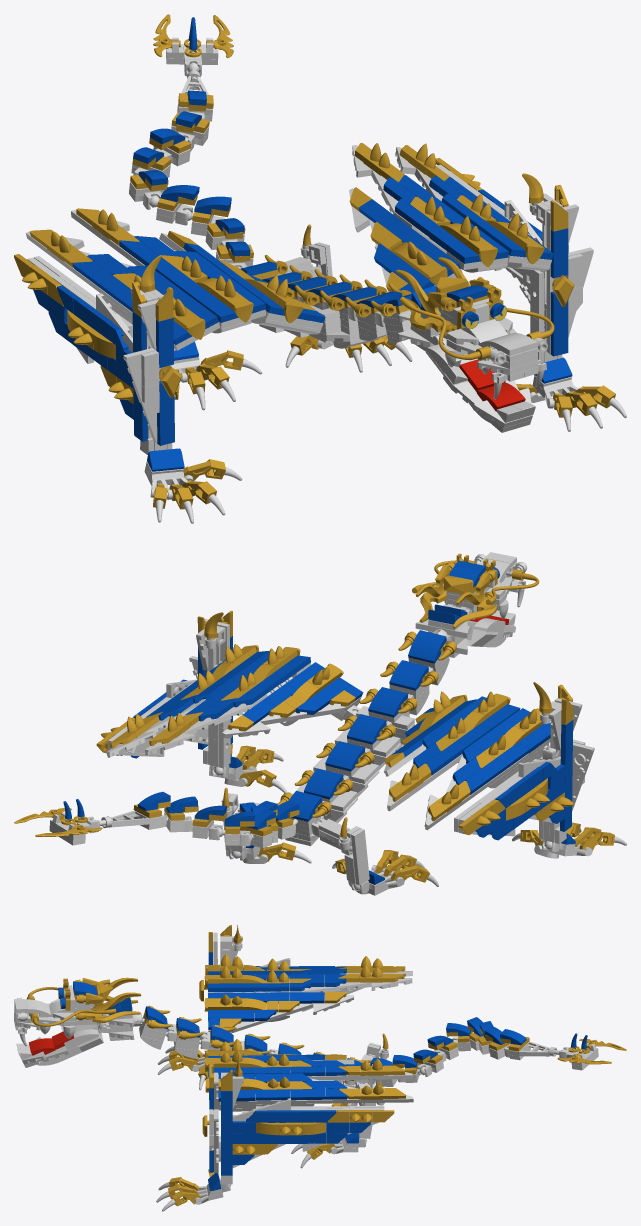
File: zmago-render.glb
The picture shows the model from 3 angles, top to bottom: view 1: azimuth 30°, elevation 25°; view 2: azimuth 150°, elevation 25°; view 3: azimuth 270°, elevation 25°; orthographic projection. The views are drawn at different scales.
Visible parts, largest first — view 1: 88646.dat.006, 88646.dat.001, 88646.dat.007, 88646.dat, 2431.dat.002, 4162.dat.001, 54383.dat.001, 2431.dat.003, 63864.dat.006, 88646.dat.004, 54384.dat, 63864.dat.018 (+5 smaller); view 2: 4162.dat.001, 88646.dat.001, 15068.dat.006, 88646.dat.004, 54383.dat.001, 88646.dat.007, 15068.dat.005, 15068.dat, 15068.dat.002, 15068.dat.003, 15068.dat.001, 2431.dat.001 (+9 smaller); view 3: 88646.dat.002, 4162.dat, 88646.dat.005, 18395.dat.001, 3934.dat.001, 50304.dat.001, 3934.dat, 4596.dat, 54383.dat, 88646.dat.006, 50305.dat.001, 63864.dat.007.
Boxes of the visible parts, x1=… form: 88646.dat.006: x1=186, y1=278, x2=265, y2=322; 88646.dat.001: x1=382, y1=237, x2=460, y2=289; 88646.dat.007: x1=73, y1=297, x2=112, y2=369; 88646.dat: x1=429, y1=226, x2=508, y2=263; 2431.dat.002: x1=550, y1=291, x2=568, y2=356; 4162.dat.001: x1=132, y1=311, x2=147, y2=441; 54383.dat.001: x1=123, y1=348, x2=170, y2=443; 2431.dat.003: x1=157, y1=381, x2=174, y2=445; 63864.dat.006: x1=550, y1=228, x2=568, y2=278; 88646.dat.004: x1=173, y1=291, x2=218, y2=344; 54384.dat: x1=546, y1=247, x2=593, y2=353; 63864.dat.018: x1=156, y1=318, x2=173, y2=367; 4162.dat.001: x1=560, y1=720, x2=573, y2=831; 88646.dat.001: x1=286, y1=662, x2=350, y2=709; 15068.dat.006: x1=408, y1=630, x2=446, y2=663; 88646.dat.004: x1=493, y1=708, x2=550, y2=753; 54383.dat.001: x1=559, y1=742, x2=594, y2=811; 88646.dat.007: x1=508, y1=767, x2=542, y2=829; 15068.dat.005: x1=389, y1=660, x2=428, y2=690; 15068.dat: x1=304, y1=768, x2=343, y2=799; 15068.dat.002: x1=347, y1=714, x2=386, y2=744; 15068.dat.003: x1=368, y1=687, x2=407, y2=717; 15068.dat.001: x1=325, y1=741, x2=364, y2=771; 2431.dat.001: x1=351, y1=828, x2=369, y2=885; 88646.dat.002: x1=267, y1=1110, x2=314, y2=1143; 4162.dat: x1=221, y1=1091, x2=232, y2=1175; 88646.dat.005: x1=208, y1=992, x2=254, y2=1021; 18395.dat.001: x1=85, y1=992, x2=140, y2=1010; 3934.dat.001: x1=231, y1=996, x2=313, y2=1032; 50304.dat.001: x1=278, y1=979, x2=371, y2=995; 3934.dat: x1=291, y1=1108, x2=384, y2=1151; 4596.dat: x1=509, y1=1041, x2=557, y2=1056; 54383.dat: x1=232, y1=1098, x2=290, y2=1121; 88646.dat.006: x1=208, y1=974, x2=254, y2=991; 50305.dat.001: x1=279, y1=1078, x2=372, y2=1103; 63864.dat.007: x1=255, y1=1089, x2=290, y2=1100.
Bounding box in the file's own units: 6.32 × 2.93 × 10.5.
